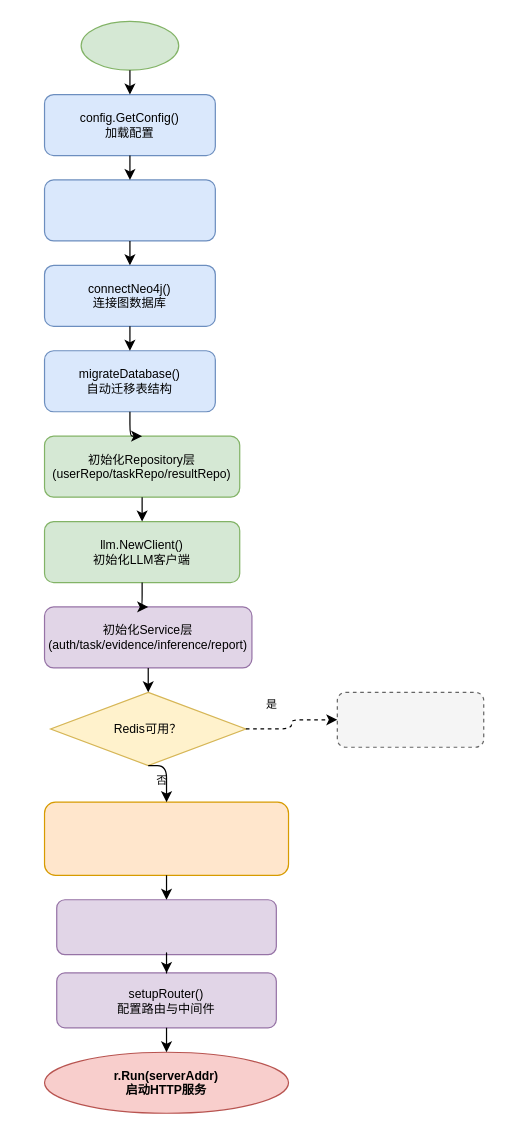
This 505x1135 diagram has some shape labels left out. Here are the shapes that lost their labels. From the top down, the box of each, then its label:
(80, 20, 179, 70): 启动
(43, 179, 215, 241): connectDatabase() 连接MySQL/PostgreSQL
(336, 691, 484, 747): 设置Redis缓存
(43, 801, 289, 875): 初始化Agent层 (Evidence/Feedback/Inference/Logic/Storage/Control)
(56, 899, 276, 955): 初始化Handler层
